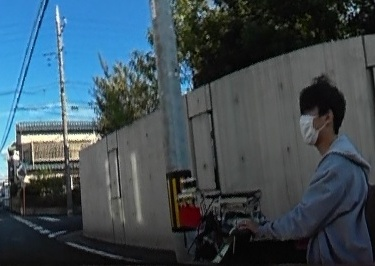person: (264, 77, 365, 266)
